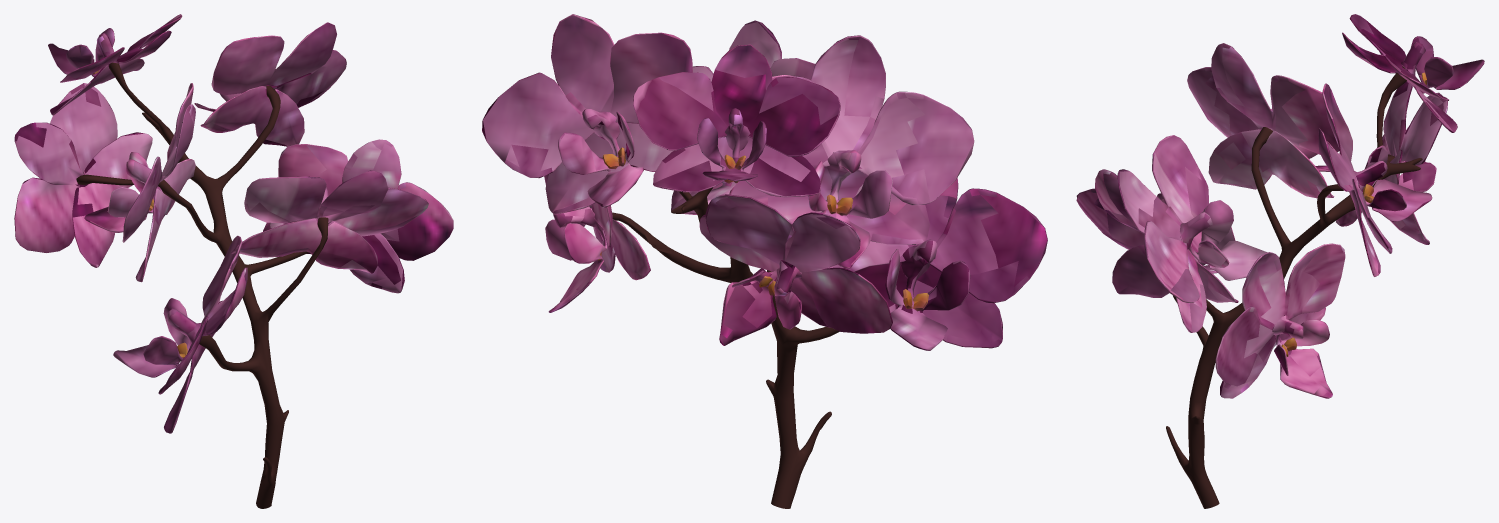
The model's file is Peradeniya.glb.
3 renders of one model, left to right at view 1: azimuth 30°, elevation 25°; view 2: azimuth 150°, elevation 25°; view 3: azimuth 270°, elevation 25°, orthographic. The views are drawn at different scales.
Visible parts, largest first — view 1: Orchids, tr; view 2: Orchids, tr, mid; view 3: Orchids, tr.
Part boxes in pixels (x1=…): Orchids: x1=14, y1=14, x2=453, y2=433; tr: x1=76, y1=62, x2=328, y2=508; Orchids: x1=482, y1=14, x2=1047, y2=350; tr: x1=612, y1=187, x2=839, y2=508; mid: x1=598, y1=147, x2=928, y2=311; Orchids: x1=1076, y1=14, x2=1484, y2=398; tr: x1=1166, y1=66, x2=1422, y2=508.
Bounding box in the file's own units: 1.08 × 1.24 × 1.01.
Materials: 3 (2 with a texture image).
